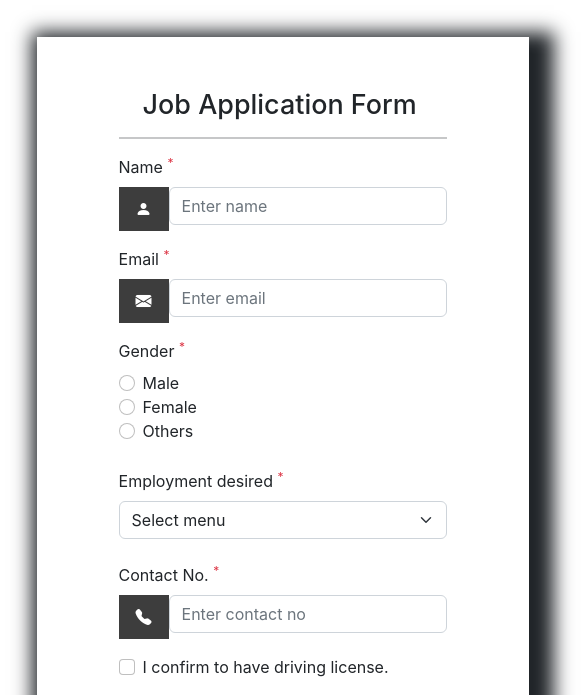
Test: Dynamic Form › name verification
This screenshot has width=587, height=695.
Type "E#6F" into the field with test id "name" at (308, 206), box [168, 187, 447, 225]
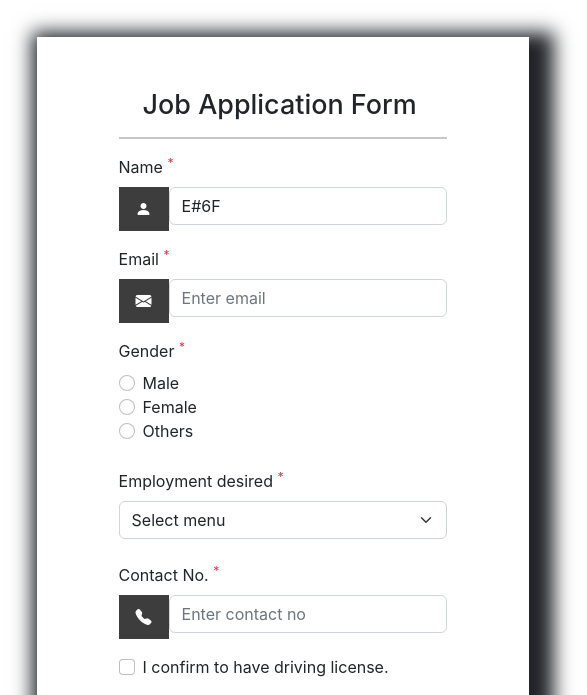
Leave the field with test id "name", box [168, 187, 447, 225]
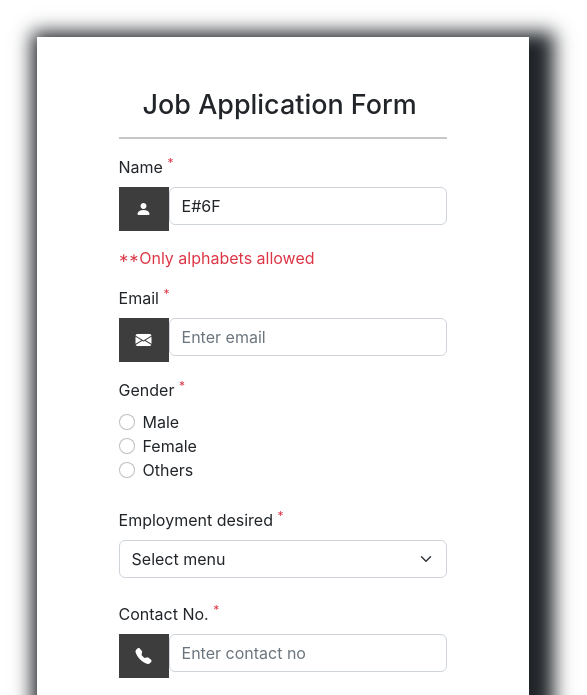
Check: the text "**Only alphabets allowed" is shown, box [118, 248, 314, 268]
